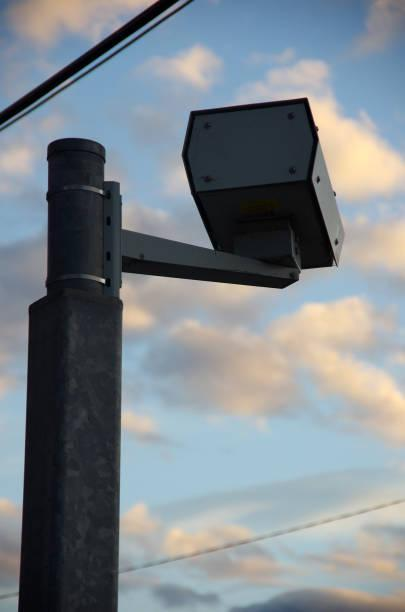camera: (160, 87, 362, 288)
